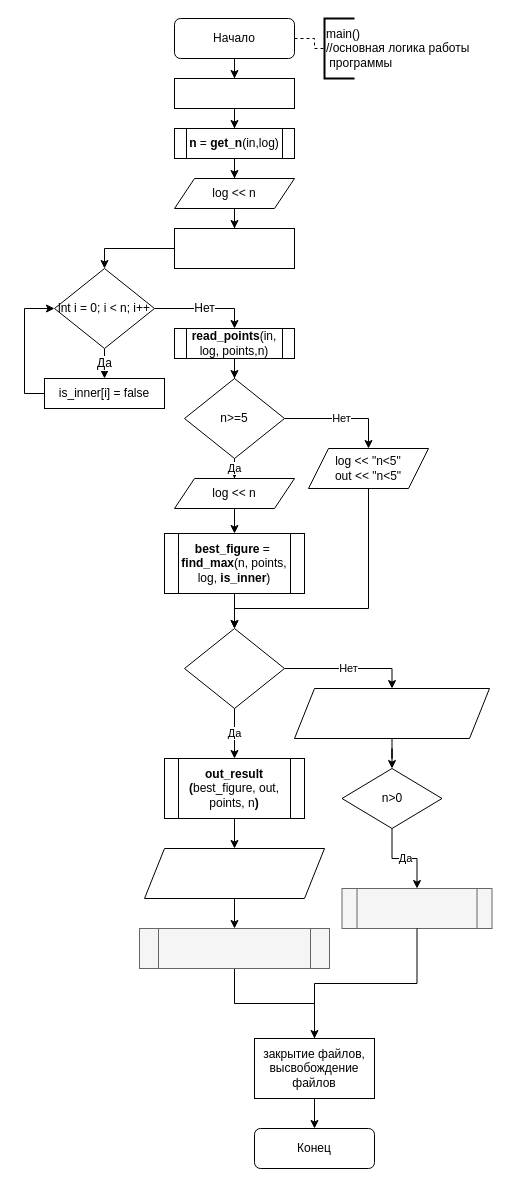
This 510x1186 diagram has some shape labels left out. Each missing label, with the centre of its shape:
! is_empty ( best_figure): [234,668]
draw_all_points(): [416,908]
draw_figure (best_figure): [234,948]
in, out, log: [234,93]
log << "figure not found" out << "figure not found": [392,713]
points[n], best_figure, is_inner[n]: [234,248]
вывод точек, для которых is_inner[i] == true: [234,873]
